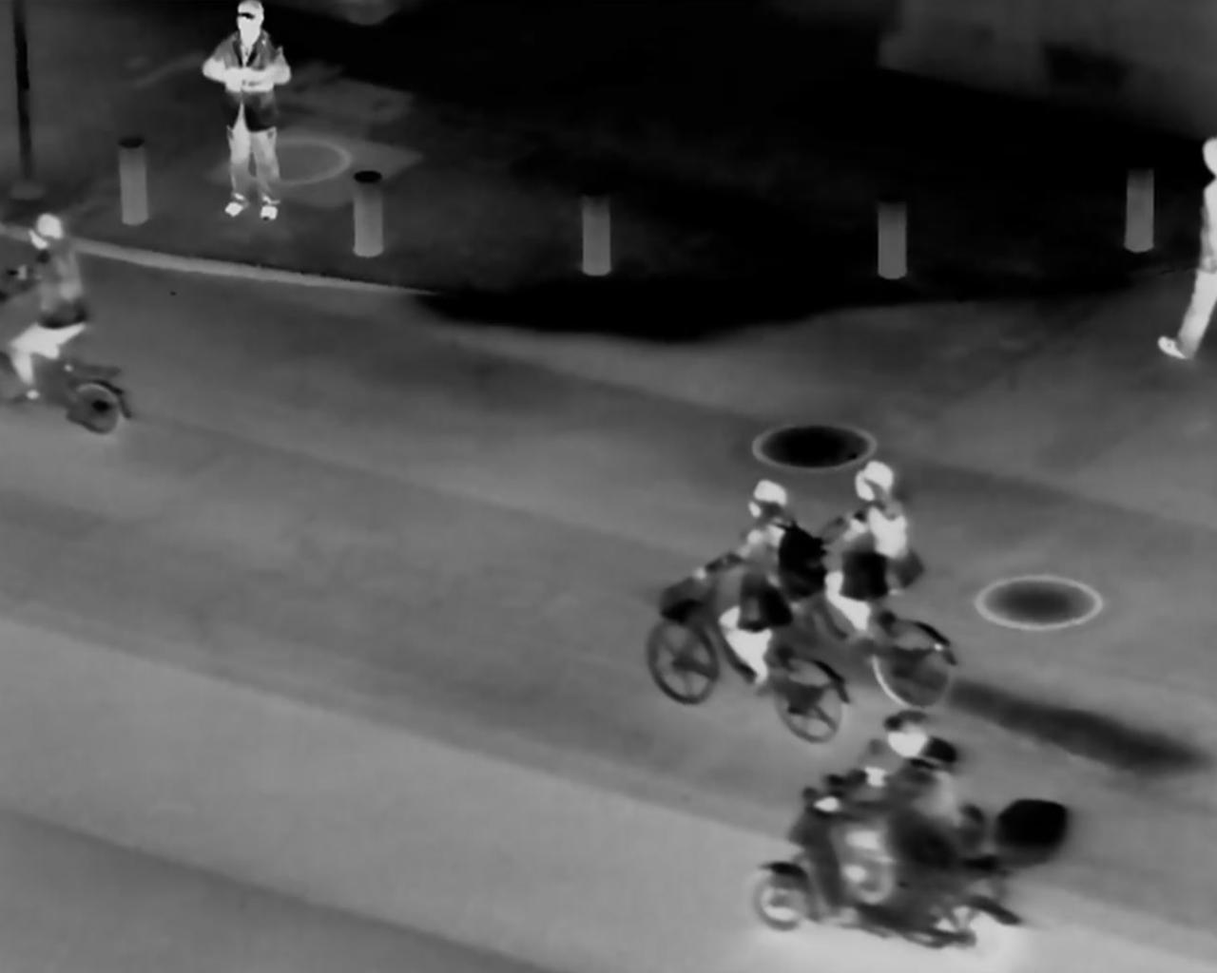person: (693, 466, 824, 701), (840, 710, 971, 920), (820, 456, 931, 658), (1158, 130, 1217, 372), (14, 213, 88, 400)
